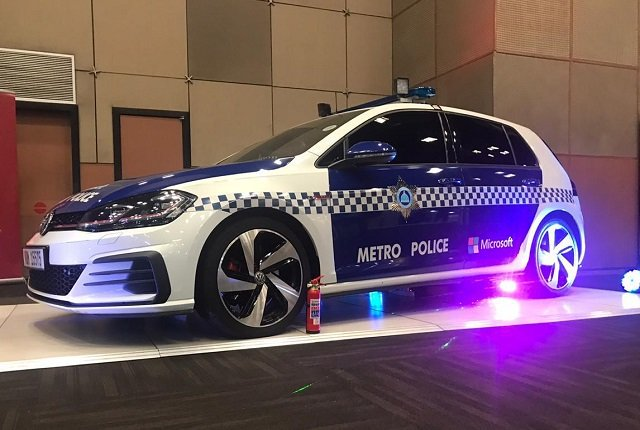car: (25, 83, 590, 328)
